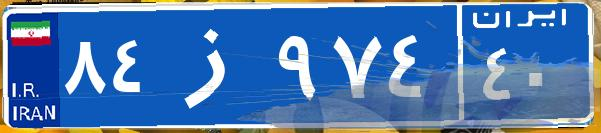0: (525, 38, 570, 115)
4: (385, 28, 445, 110), (475, 38, 525, 113), (110, 28, 158, 105)
7: (330, 28, 385, 110)
8: (57, 26, 110, 107)
9: (273, 28, 330, 110)
ز: (158, 15, 273, 115)
